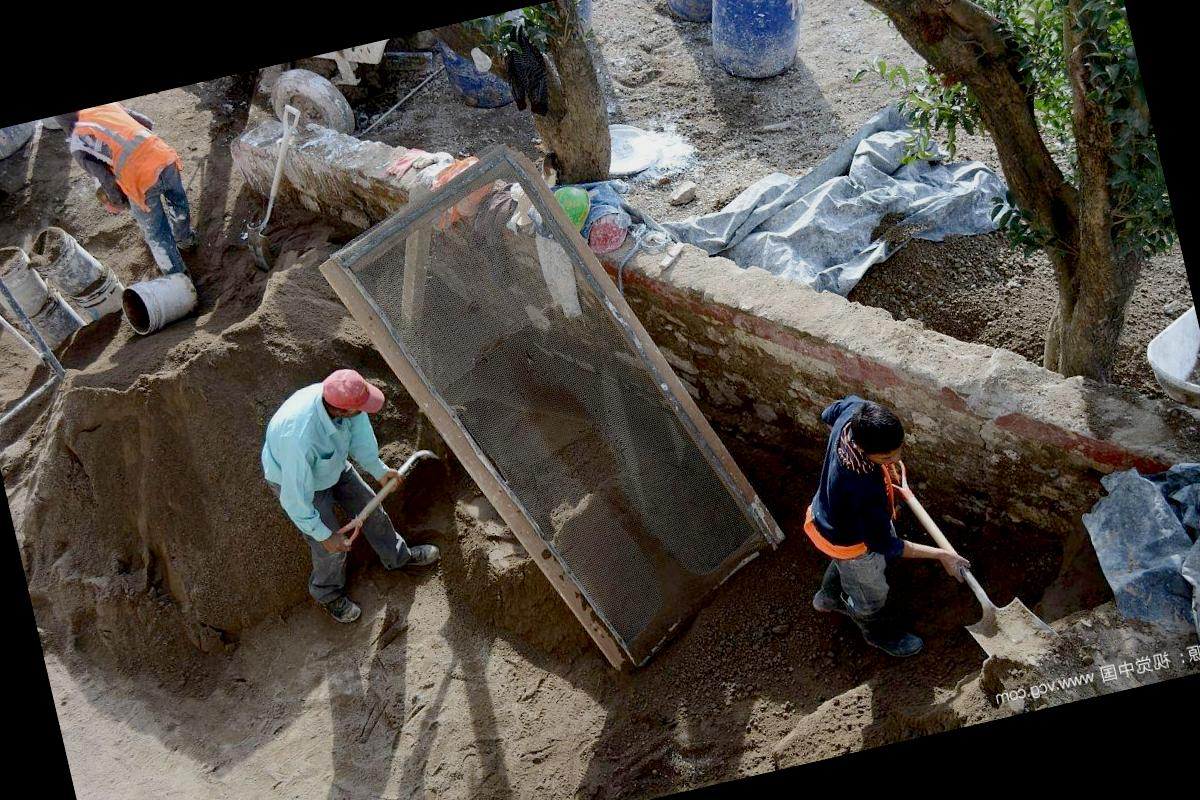person: (764, 373, 966, 681), (238, 353, 444, 644), (60, 90, 209, 302)
